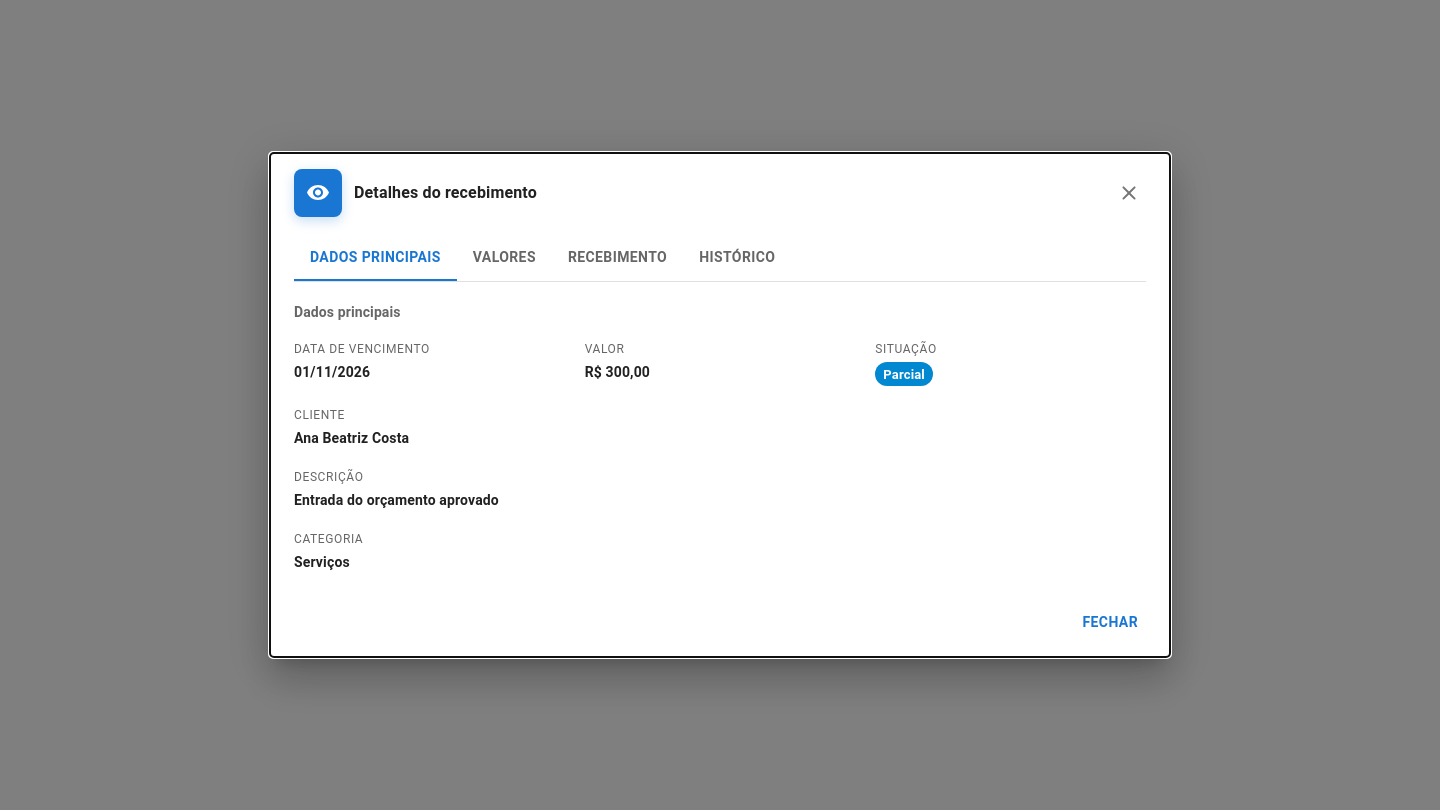
DetalhesDialog › aba Histórico carrega os recebimentos e estornos só quando aberta
Click the tab "Histórico" at (737, 257), box [683,233,791,281]
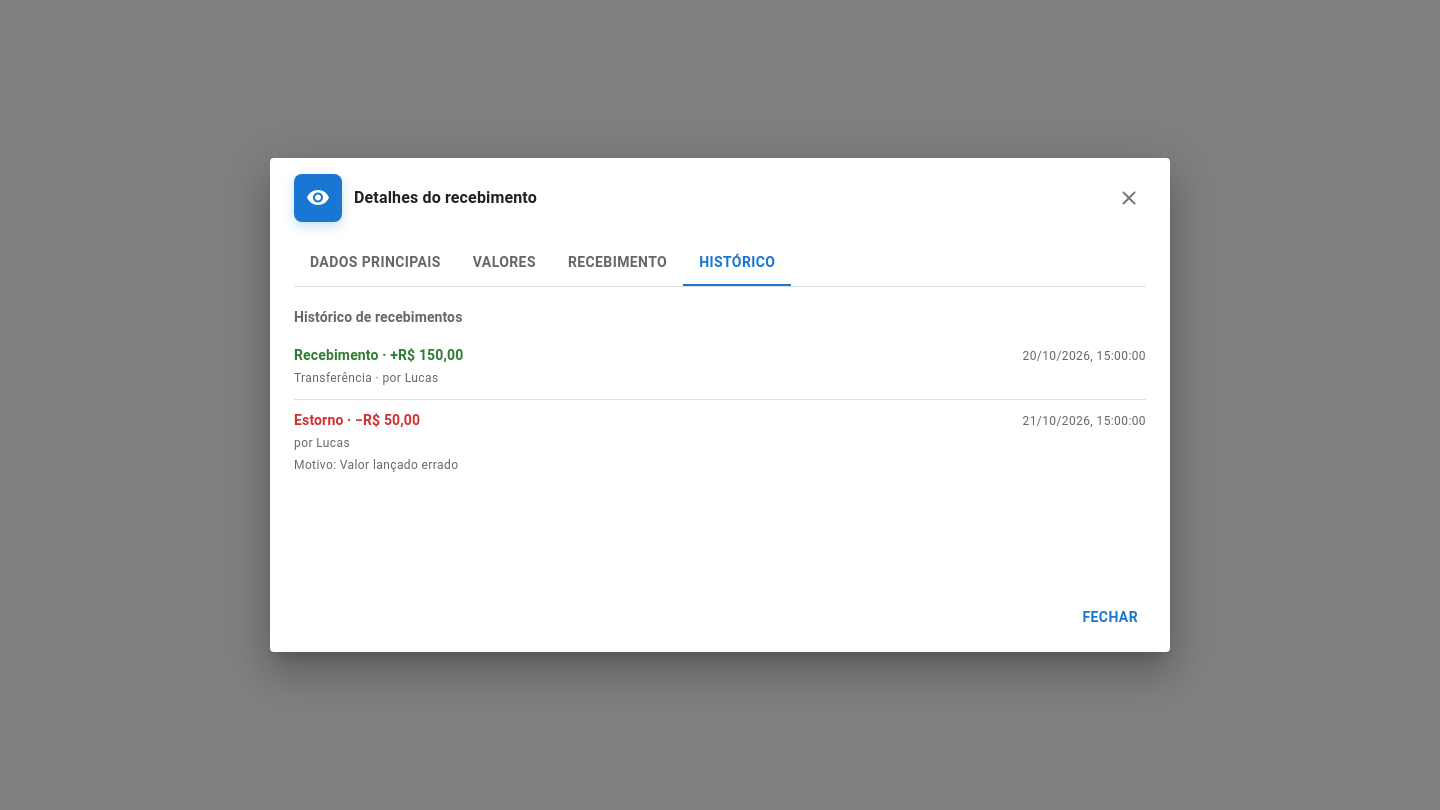
Now the heading "Histórico de recebimentos" is shown, box [294,309,462,325]
Now the text "Estorno · −R$ 50,00" is shown, box [294,410,420,430]
Now the text "Motivo: Valor lançado errado" is shown, box [294,458,458,472]
